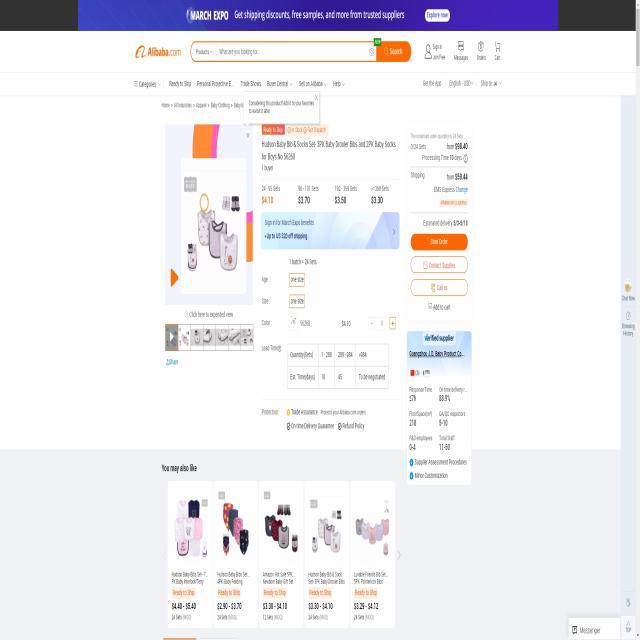menu-bar: (423, 38, 504, 66)
search: (190, 38, 412, 64)
side-panel: (406, 122, 472, 320)
tab-bar: (130, 72, 347, 95)
